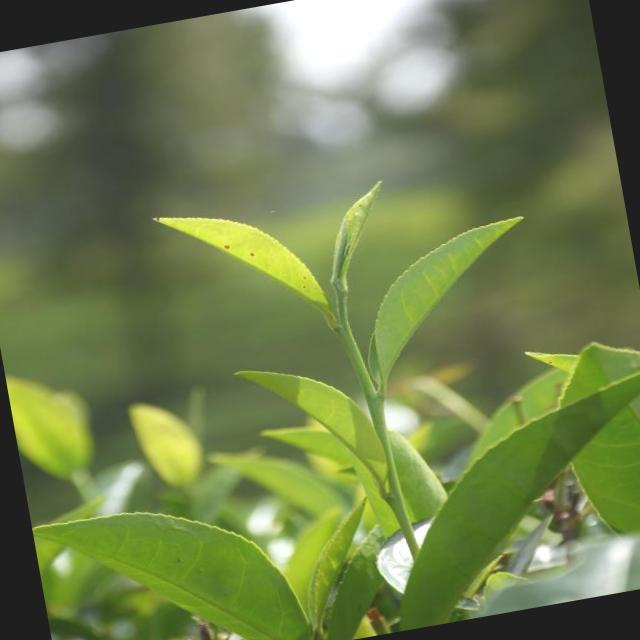Stem: (338, 324, 349, 339)
